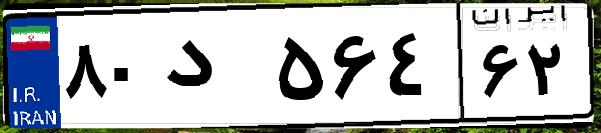0: (110, 28, 158, 98)
2: (525, 38, 570, 115)
4: (385, 28, 445, 110)
5: (270, 28, 330, 110)
6: (330, 28, 385, 110), (475, 38, 525, 113)
8: (57, 26, 110, 100)
د: (158, 20, 270, 120)
